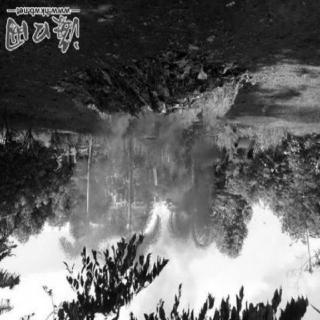Fire: (172, 78, 248, 156), (78, 98, 122, 138)
